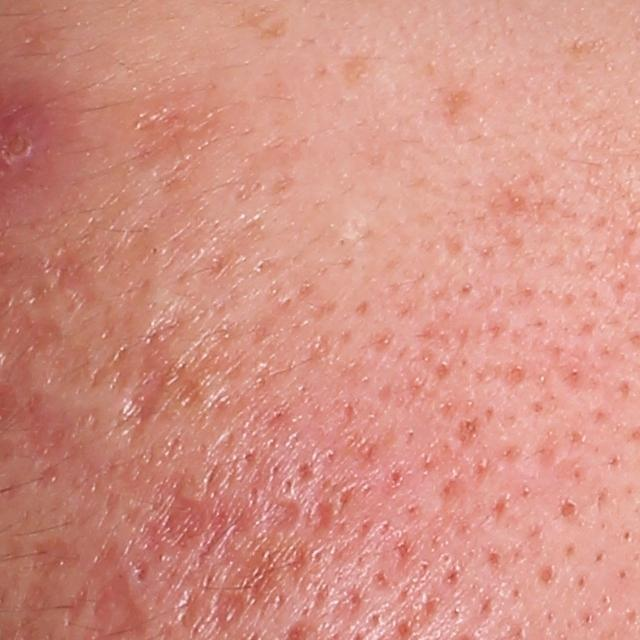atrophic_scar: (132, 470, 304, 550), (212, 538, 305, 630), (112, 340, 182, 431), (27, 538, 84, 582), (15, 581, 50, 618), (310, 498, 336, 536)
comedo: (553, 498, 582, 525)
melasma: (334, 46, 388, 97), (235, 3, 288, 43)
